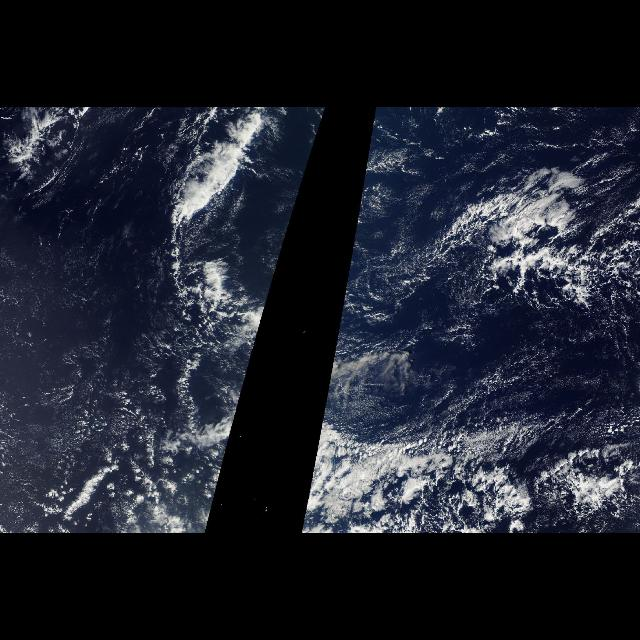Fish: (335, 143, 617, 337)
Sugar: (11, 214, 175, 530), (401, 292, 639, 428)
